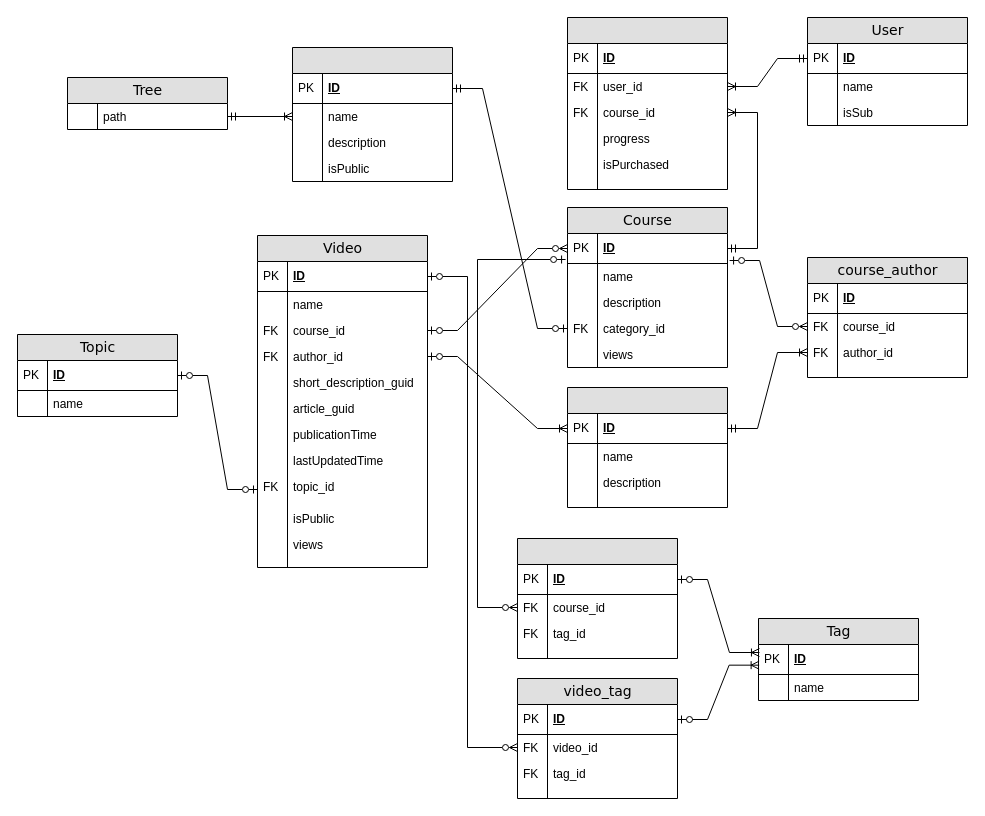
Some shapes in this 985 by 816 pixel diagram are drawn without their labels. The shapes that lost their labels are listed below. From the top down, each one's box as (x1, y1, x2, y2) in pixels, then its label:
(292, 46, 452, 182): Category
(566, 16, 728, 190): user_course
(566, 386, 728, 508): Author
(516, 538, 678, 658): course_tag
